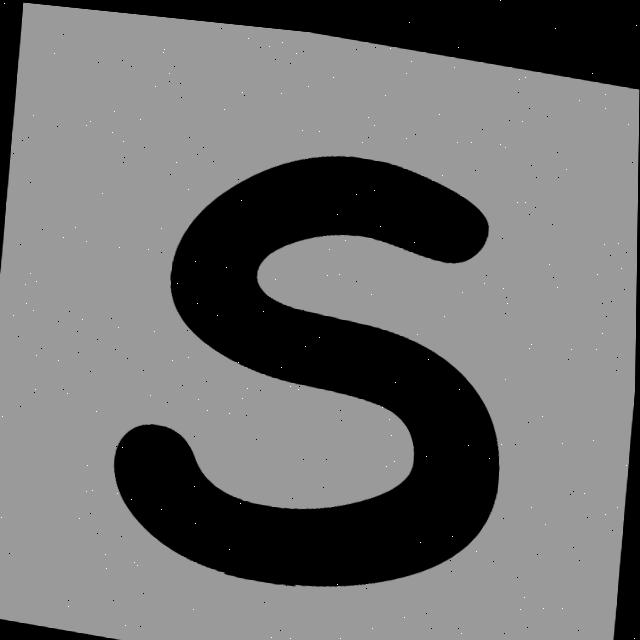S: (117, 150, 500, 579)
